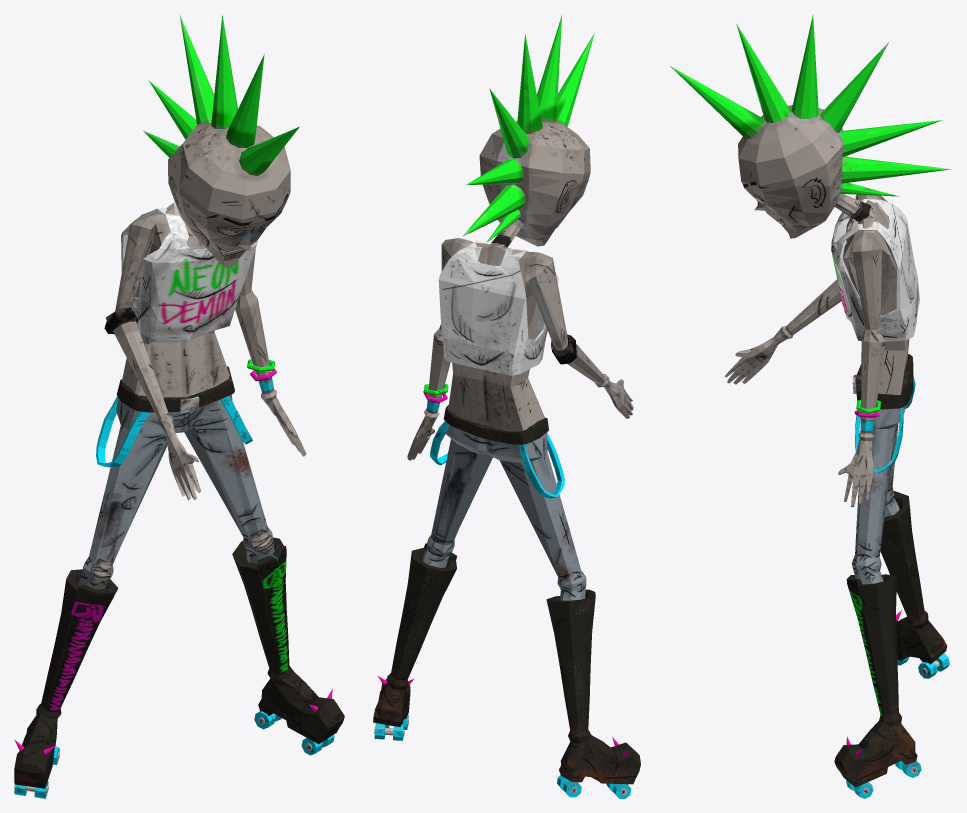
The model's file is punkAnimation_000126.obj.
3 renders of one model, left to right at view 1: azimuth 30°, elevation 25°; view 2: azimuth 150°, elevation 25°; view 3: azimuth 270°, elevation 25°, orthographic. The views are drawn at different scales.
Visible parts, largest first — view 1: Cube.004_Cube.003; view 2: Cube.004_Cube.003; view 3: Cube.004_Cube.003.
Boxes of the visible parts, x1=… form: Cube.004_Cube.003: x1=14, y1=14, x2=344, y2=798; Cube.004_Cube.003: x1=373, y1=14, x2=640, y2=798; Cube.004_Cube.003: x1=670, y1=15, x2=951, y2=798.
Bounding box in the file's own units: 3.03 × 7.35 × 2.6.
